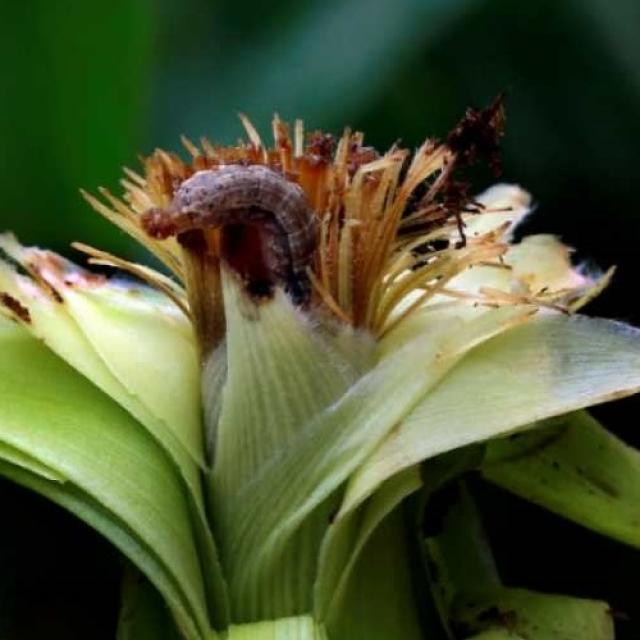Fall-armyworm: (171, 161, 322, 294)
